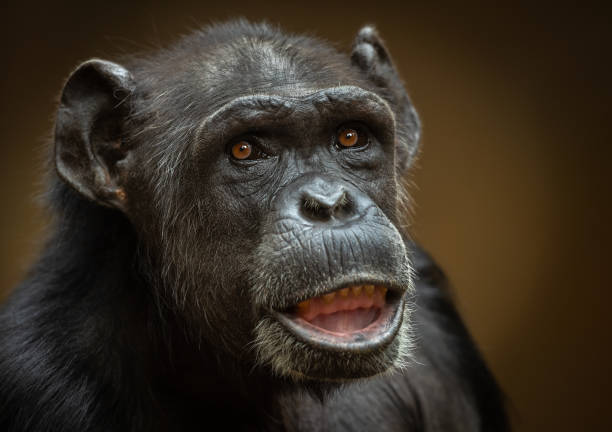chimpanzee: (5, 9, 446, 396)
